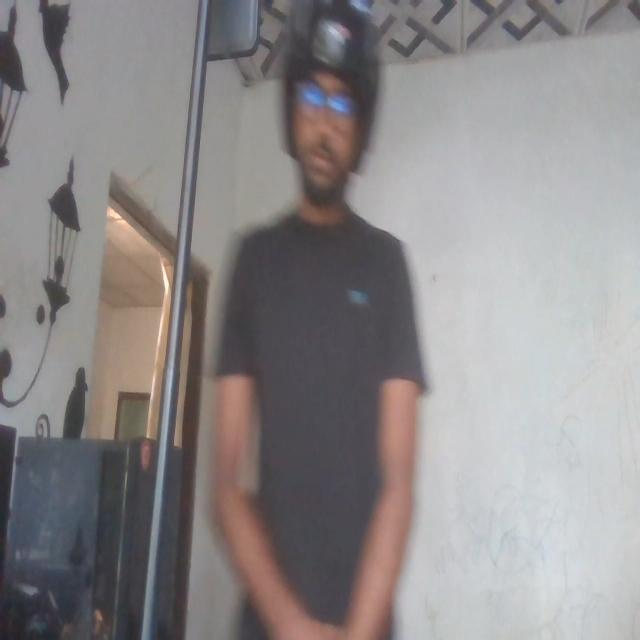Helmet_Wearer: (277, 1, 394, 217)
Person: (217, 0, 420, 640)
